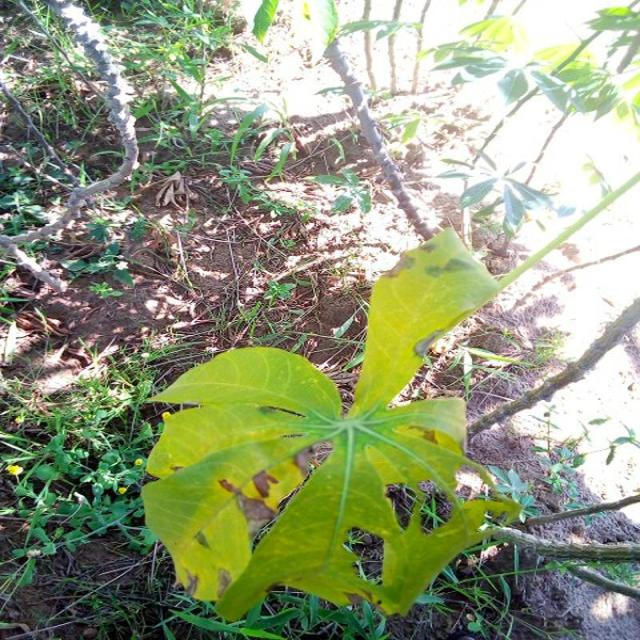cassava leaf: (142, 226, 527, 624)
